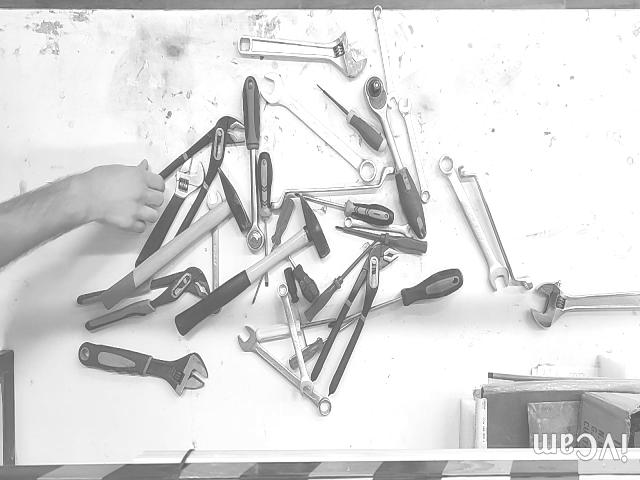Adjustable spanner: (134, 159, 205, 268), (79, 342, 208, 397), (237, 32, 366, 80), (531, 279, 640, 328)
Gas wrench: (310, 244, 399, 397), (158, 116, 245, 238), (77, 267, 210, 332)
Hammer: (100, 166, 252, 311), (174, 198, 331, 336)
Hand: (0, 160, 165, 268)
Ratchet: (364, 77, 426, 240), (242, 77, 264, 252)
Screwdriver: (328, 268, 464, 328), (304, 238, 378, 322), (318, 86, 388, 153), (252, 197, 295, 305), (289, 315, 360, 370), (294, 193, 394, 225), (335, 226, 428, 253), (258, 152, 273, 288), (256, 318, 336, 341), (284, 267, 307, 346), (288, 255, 320, 303)
Wrench: (261, 73, 376, 183), (439, 155, 509, 292), (458, 165, 533, 291), (238, 325, 332, 415), (271, 166, 395, 210), (278, 283, 313, 397), (398, 97, 430, 203), (374, 5, 399, 109), (344, 217, 418, 240), (206, 191, 222, 291)
